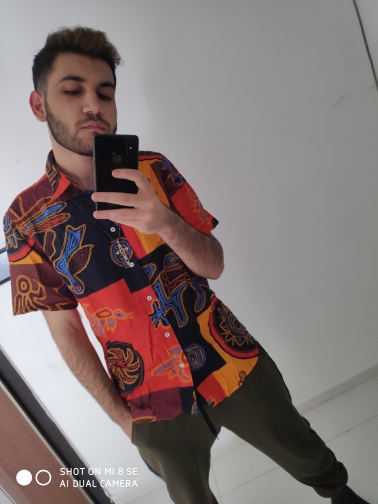shirts: (9, 148, 265, 419)
